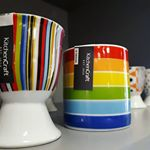cups: (57, 43, 132, 134)
